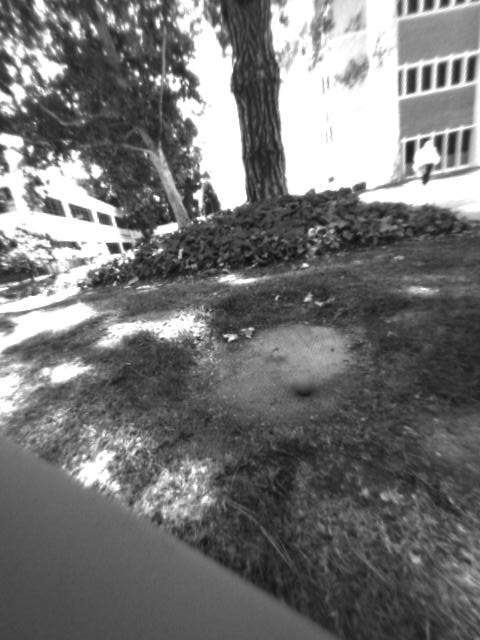dogtoy: (285, 364, 329, 406)
